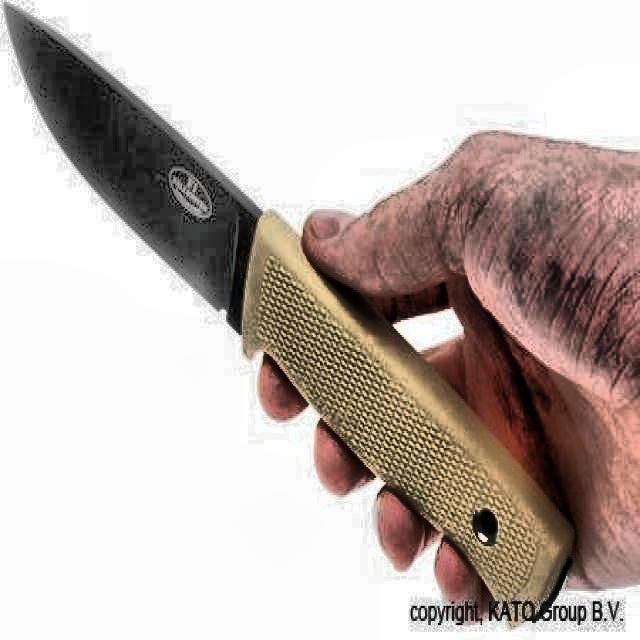knife: (1, 3, 572, 629)
